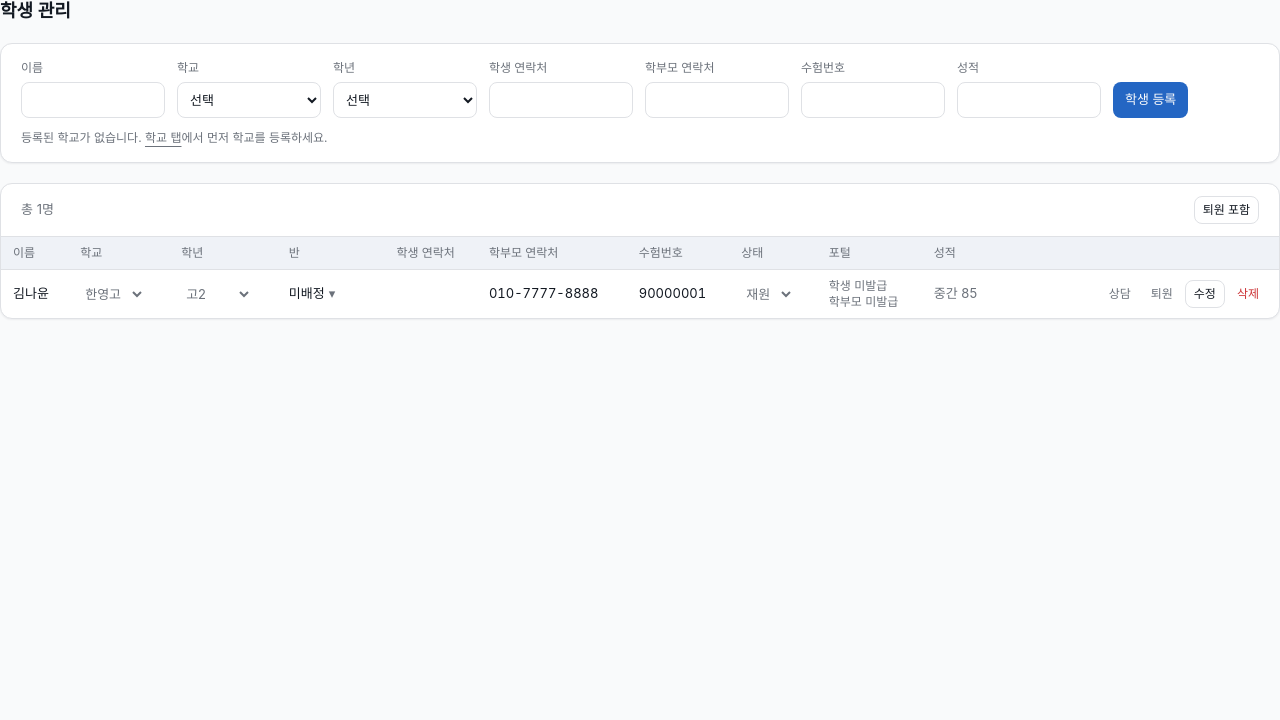
Test case: StudentsPage portal accounts › disables student issuing when the student has no phone
The width and height of the screenshot is (1280, 720).
Click the button "수정".
click(1205, 294)  # box top-left (1185, 280), bottom-right (1225, 308)
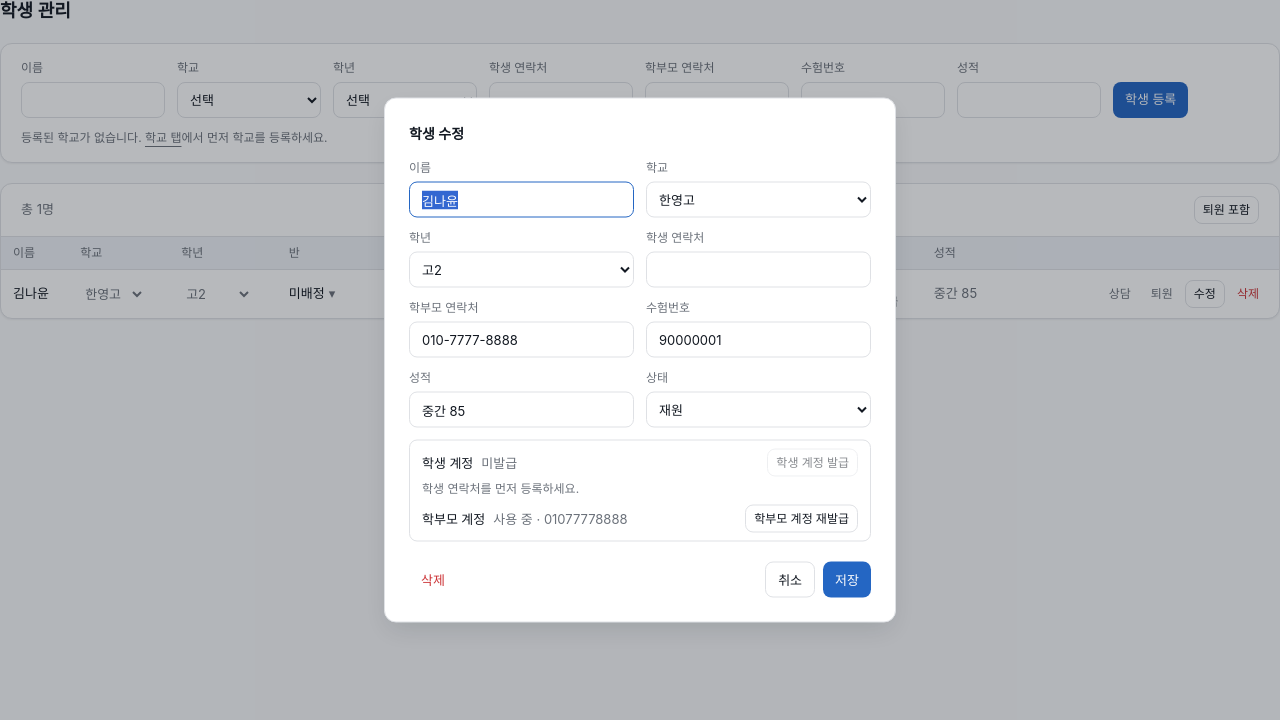
Result: the button "학생 계정 발급" is disabled at top-left (767, 448), bottom-right (858, 476)
Result: the text "학생 연락처를 먼저 등록하세요." is shown at top-left (422, 480), bottom-right (579, 496)
